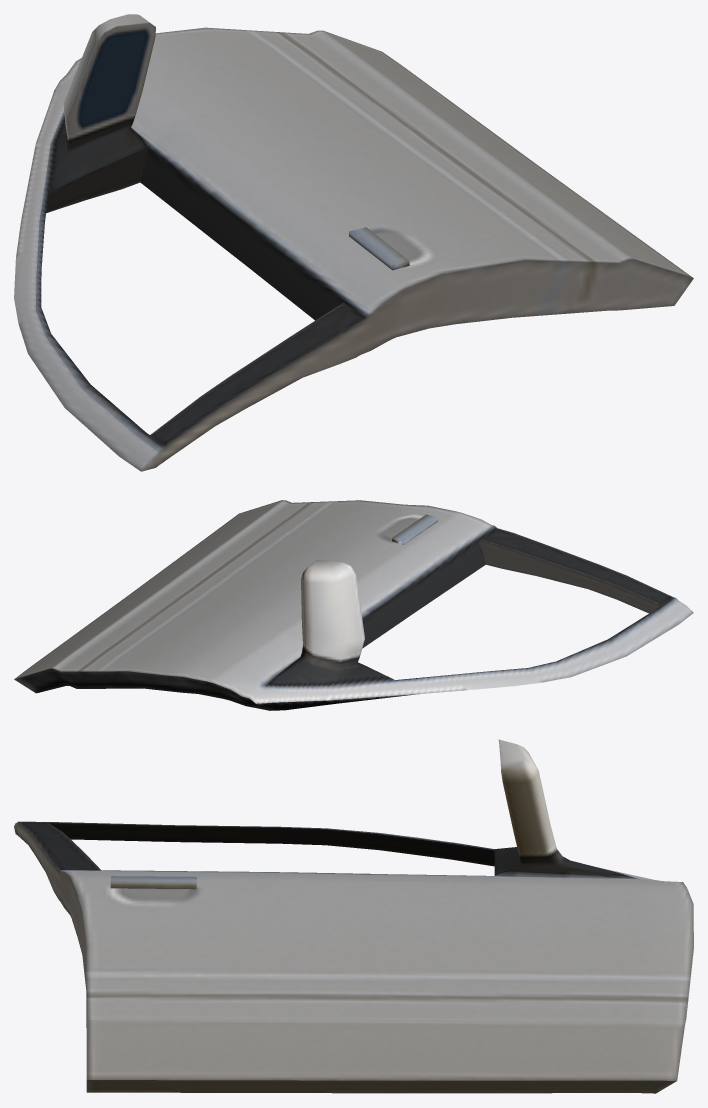
The model's file is FordCrownVic92FrontDoor_WorldItem.fbx.
The picture shows the model from 3 angles, top to bottom: view 1: azimuth 30°, elevation 25°; view 2: azimuth 150°, elevation 25°; view 3: azimuth 270°, elevation 25°; orthographic projection. The views are drawn at different scales.
Parts seen in each view (by area): view 1: FrontRightDoor_obj; view 2: FrontRightDoor_obj; view 3: FrontRightDoor_obj.
Boxes of the visible parts, x1,y1,x2,y2 form: FrontRightDoor_obj: [14, 14, 693, 471]; FrontRightDoor_obj: [14, 500, 693, 710]; FrontRightDoor_obj: [14, 739, 693, 1093].
Bounding box in the file's own units: 2.15 × 0.7119 × 2.26.
